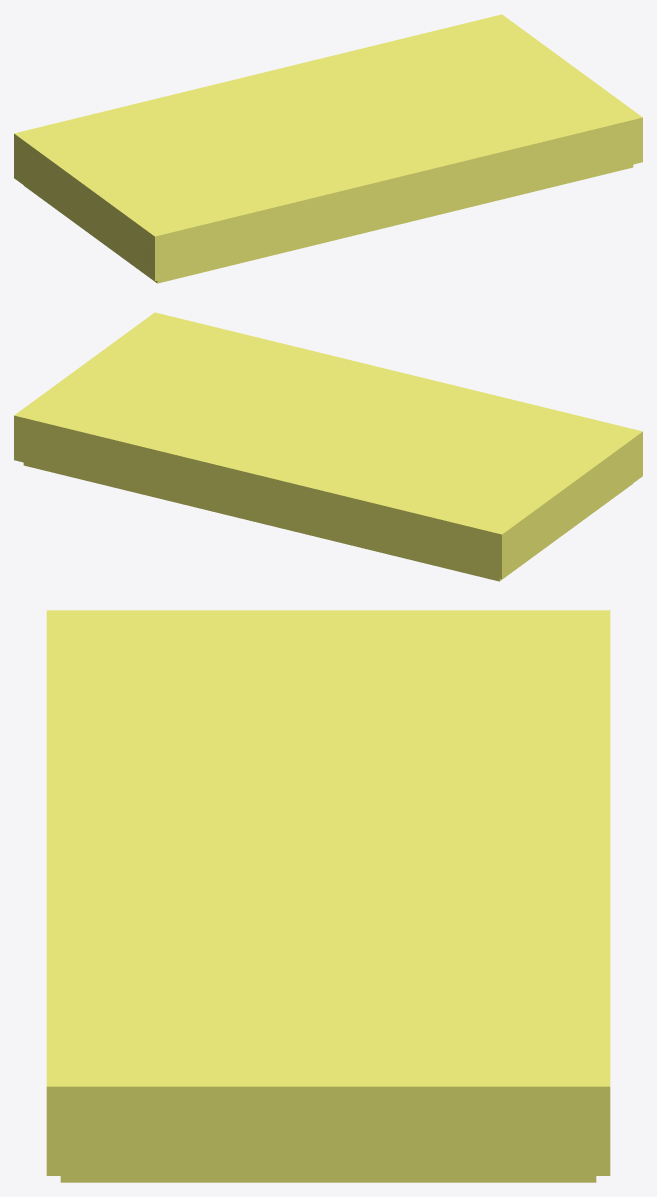
The picture shows the model from 3 angles, top to bottom: view 1: azimuth 30°, elevation 25°; view 2: azimuth 150°, elevation 25°; view 3: azimuth 270°, elevation 25°; orthographic projection. The views are drawn at different scales.
Parts seen in each view (by area): view 1: 87079.dat; view 2: 87079.dat; view 3: 87079.dat.
Boxes of the visible parts, x1,y1,x2,y2 form: 87079.dat: (14, 14, 642, 283); 87079.dat: (14, 312, 642, 581); 87079.dat: (46, 610, 610, 1182).
Size of the model in its own units: 0.032 by 0.0032 by 0.016.
